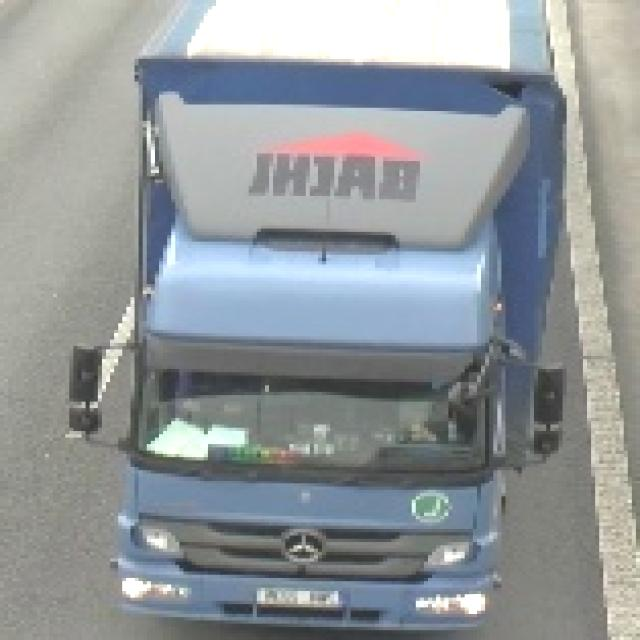TRUCK: (107, 159, 517, 640)
